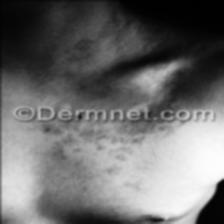Potentially Malignant Skin Tumors: (40, 122, 169, 173)
